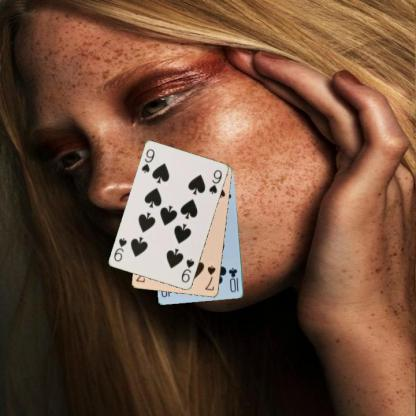10c: (226, 265, 240, 294)
7s: (202, 263, 217, 292)
9s: (178, 257, 196, 284), (139, 147, 156, 174)
